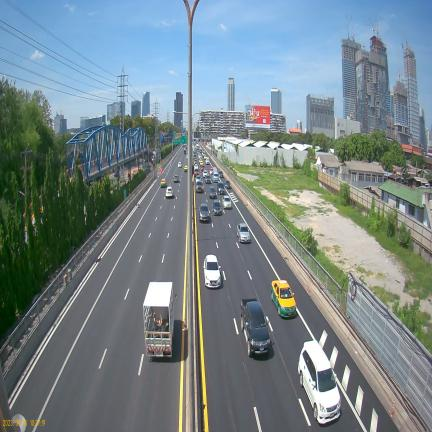car: (298, 340, 341, 424), (204, 255, 221, 287), (236, 223, 250, 243), (199, 203, 209, 222), (213, 199, 222, 215), (222, 195, 231, 209), (165, 186, 173, 198), (173, 175, 180, 183)
pickup: (241, 298, 271, 357)
taxi: (271, 279, 296, 316), (160, 178, 167, 188), (209, 167, 214, 175), (184, 165, 188, 172)
truck: (143, 282, 174, 357)
